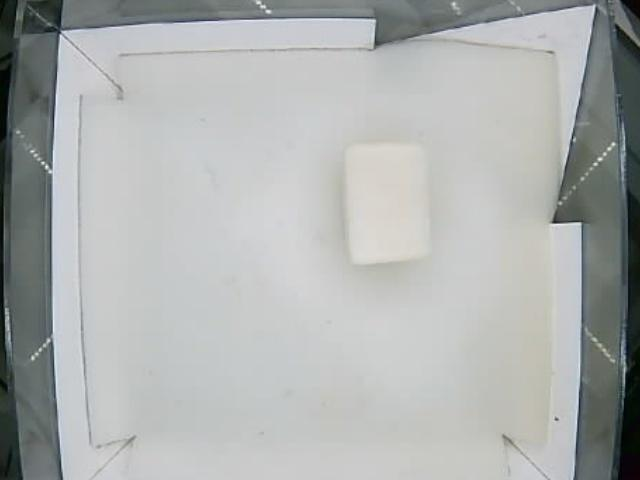Mooli: (346, 141, 429, 264)
